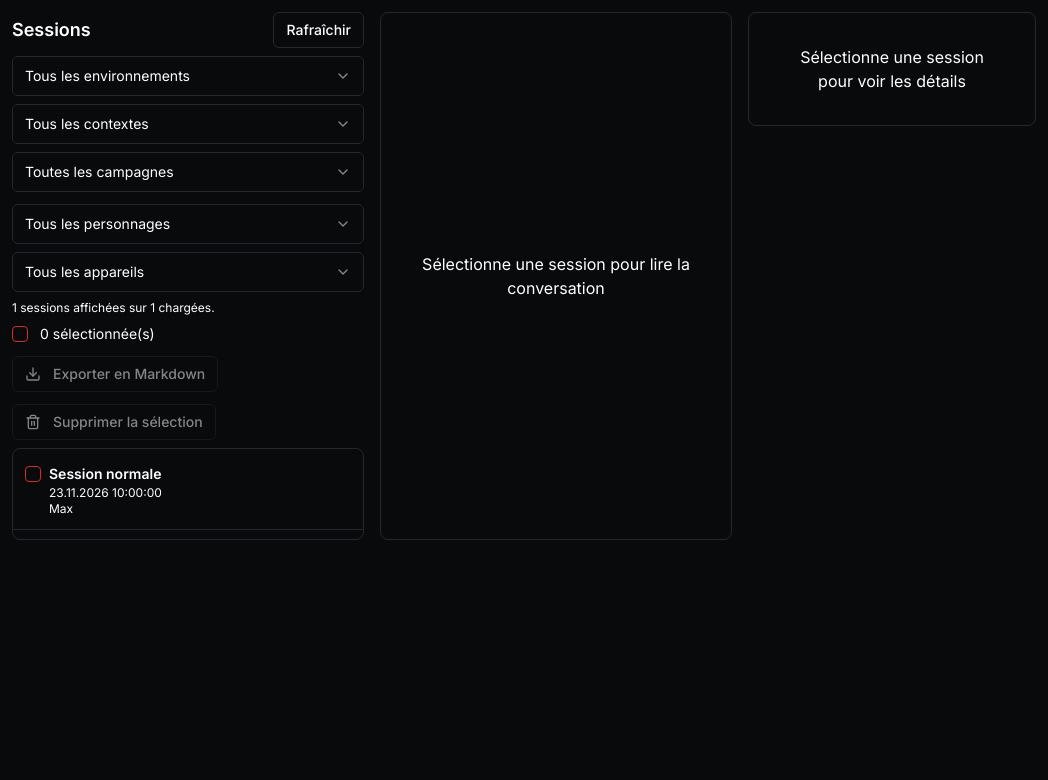
Scenario: SessionsTab — lecture d'une session › met la liste, la conversation et les détails dans trois régions, avec le numéro de tour
The width and height of the screenshot is (1048, 780).
Click the text "Session normale" at (105, 474), box [49,465,161,482]
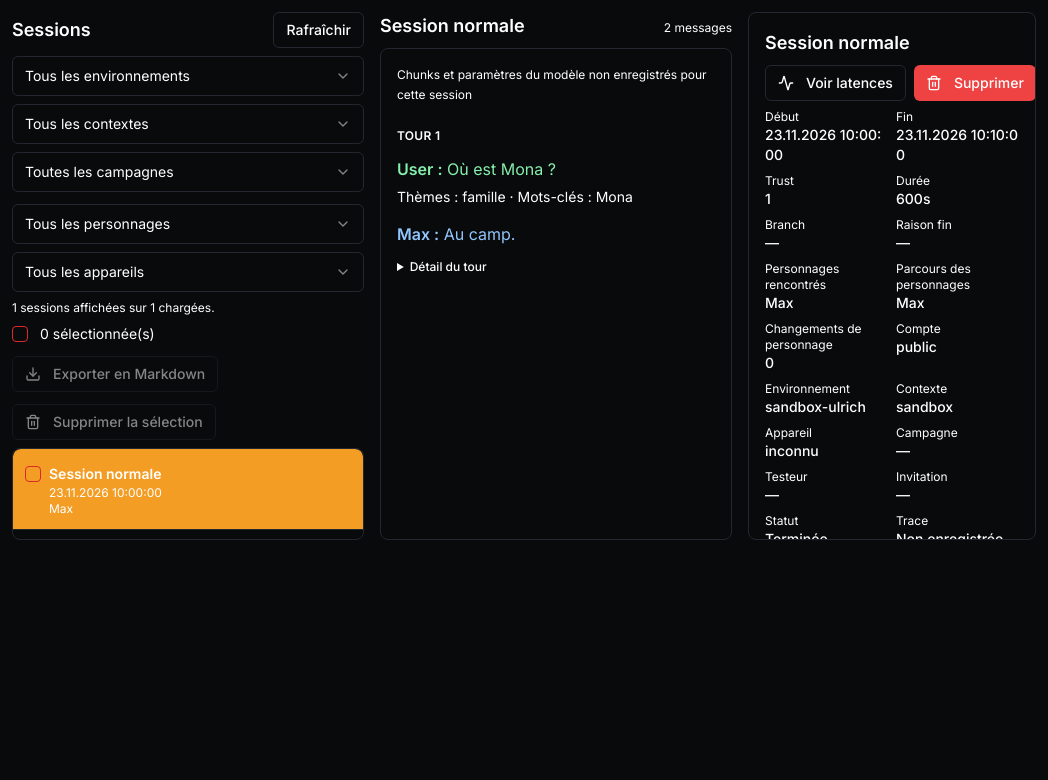
Expected: the heading "Tour 1" is shown, [397,128,440,143]
Expected: the text "Max : Au camp." is shown, [397,224,515,244]
Expected: the text with test id "turn-labels" reads "Thèmes : famille · Mots-clés : Mona", [397,188,633,205]
